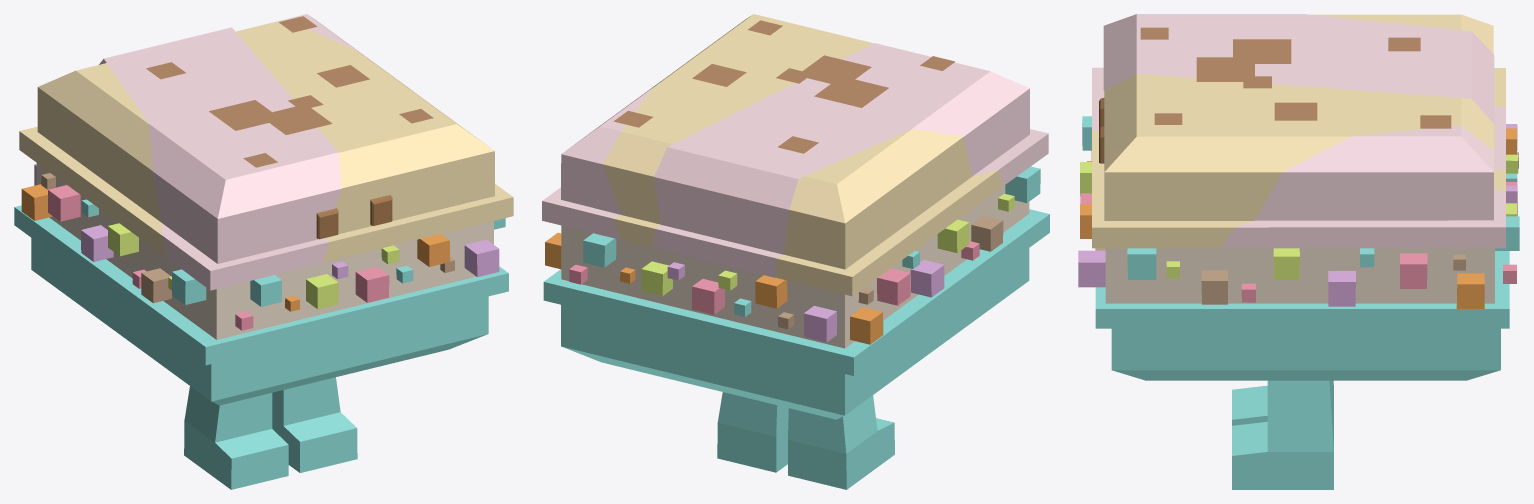
The model's file is st1_block10.fbx.
The picture shows the model from 3 angles, left to right: view 1: azimuth 30°, elevation 25°; view 2: azimuth 150°, elevation 25°; view 3: azimuth 270°, elevation 25°; orthographic projection. The views are drawn at different scales.
Visible parts, largest first — view 1: st1_block10_head, st1_block10_down, st1_block10_middle_box, st1_block10_middle, st1_block10_L_leg, st1_block10_R_leg, st1_block10_R_eye_, st1_block10_L_eye_; view 2: st1_block10_head, st1_block10_down, st1_block10_middle_box, st1_block10_middle, st1_block10_L_leg, st1_block10_R_leg; view 3: st1_block10_head, st1_block10_down, st1_block10_middle, st1_block10_middle_box, st1_block10_R_leg, st1_block10_L_leg.
Part boxes in pixels (left/top/right/bottom): st1_block10_head: left=19, top=14, right=513, bottom=290; st1_block10_down: left=14, top=205, right=508, bottom=405; st1_block10_middle_box: left=21, top=164, right=505, bottom=330; st1_block10_middle: left=36, top=163, right=493, bottom=339; st1_block10_L_leg: left=184, top=386, right=288, bottom=489; st1_block10_R_leg: left=272, top=377, right=357, bottom=472; st1_block10_R_eye_: left=370, top=195, right=392, bottom=225; st1_block10_L_eye_: left=316, top=208, right=338, bottom=239; st1_block10_head: left=542, top=14, right=1048, bottom=296; st1_block10_down: left=543, top=209, right=1049, bottom=419; st1_block10_middle_box: left=545, top=166, right=1040, bottom=344; st1_block10_middle: left=561, top=185, right=1029, bottom=348; st1_block10_L_leg: left=788, top=395, right=894, bottom=489; st1_block10_R_leg: left=717, top=392, right=788, bottom=472; st1_block10_head: left=1092, top=14, right=1505, bottom=248; st1_block10_down: left=1095, top=251, right=1509, bottom=380; st1_block10_middle: left=1105, top=248, right=1494, bottom=303; st1_block10_middle_box: left=1078, top=116, right=1519, bottom=308; st1_block10_R_leg: left=1232, top=380, right=1333, bottom=489; st1_block10_L_leg: left=1232, top=380, right=1333, bottom=425.
Size of the model in its own units: 471 by 502 by 519.
1 material, 1 textured.
